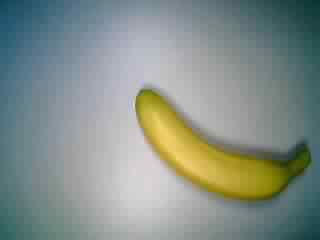banana: (127, 82, 313, 211)
